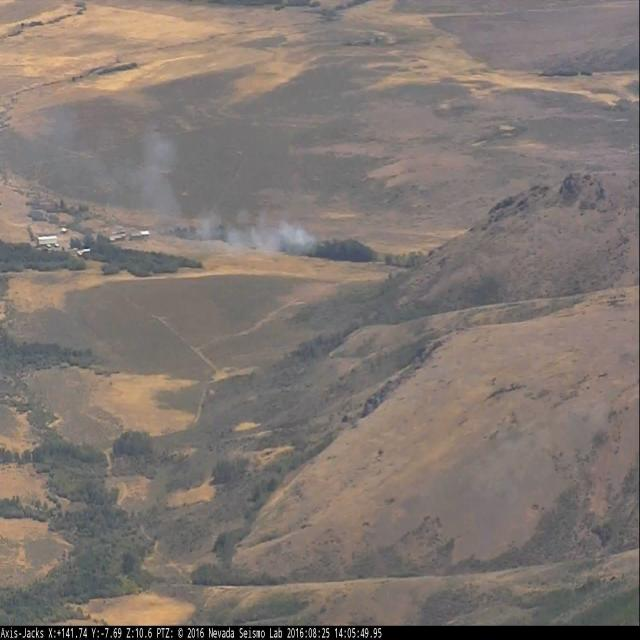smoke: (224, 212, 314, 250)
